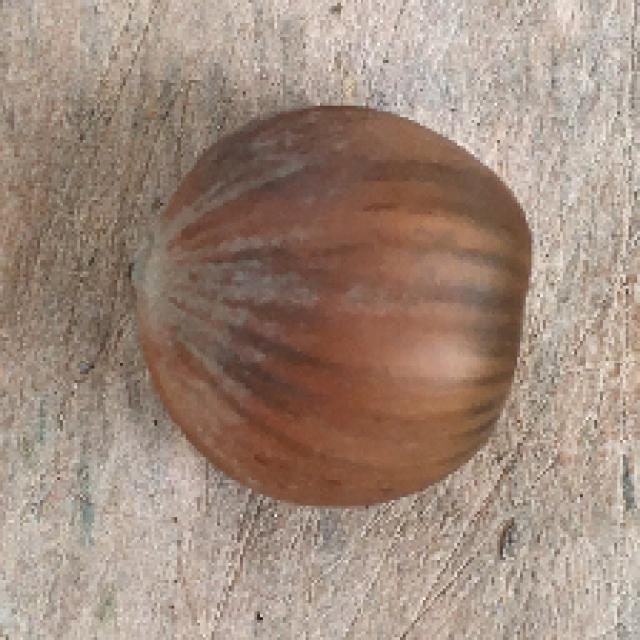qualityHazelnut: (123, 104, 537, 502)
